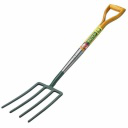fork: (1, 7, 128, 123)
